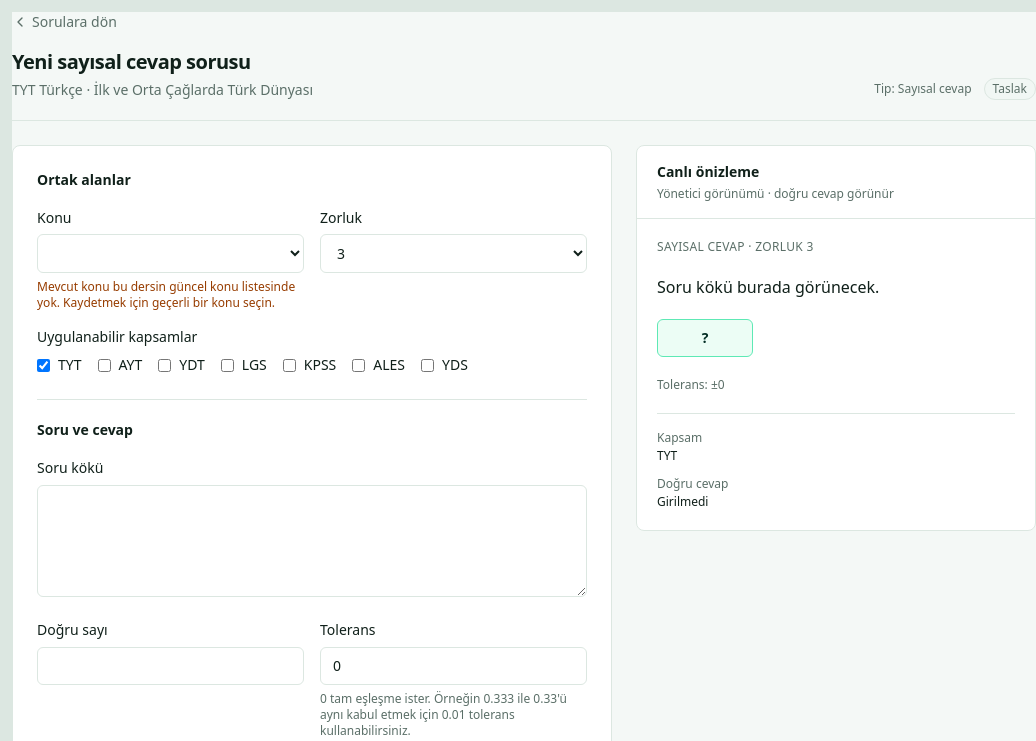
Scenario: numeric input create editor › blocks save on a negative tolerance
Expected: the heading "Yeni sayısal cevap sorusu" is shown, x1=12 y1=48 x2=251 y2=74
Select "İlk Türk Devletleri (12)" in the dropdown labelled "Konu" at (170, 254), box x1=37 y1=234 x2=304 y2=273
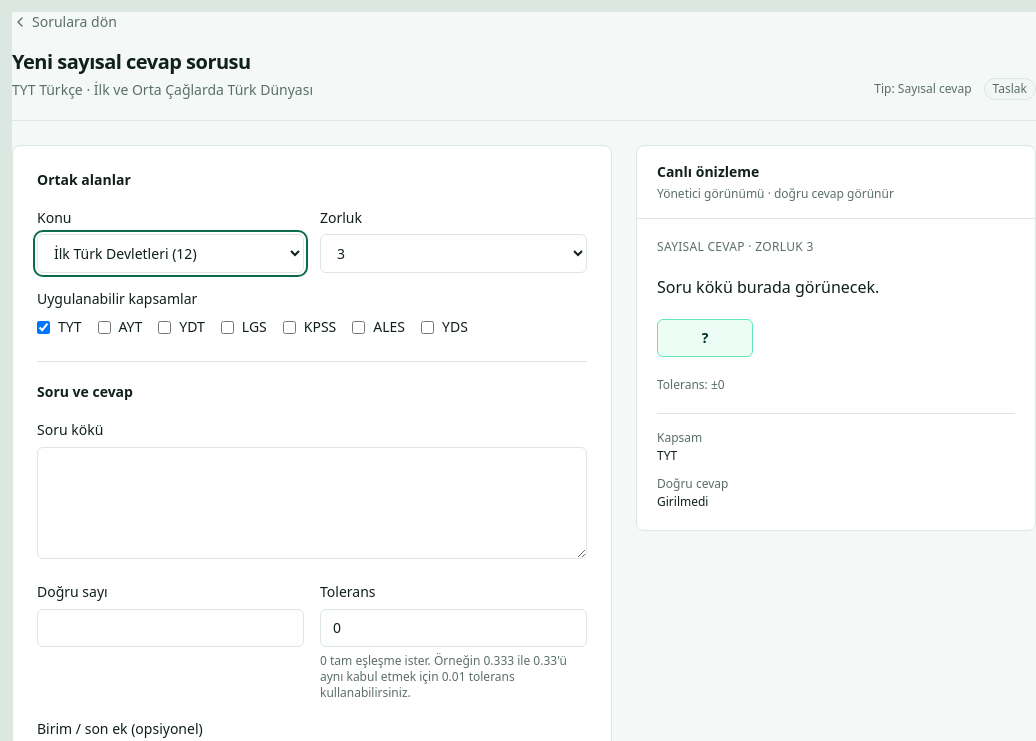
Type "Kaç yılında?" into the text box labelled "Soru kökü".
click(312, 502); type("Kaç yılında?")  # box x1=37 y1=446 x2=587 y2=558
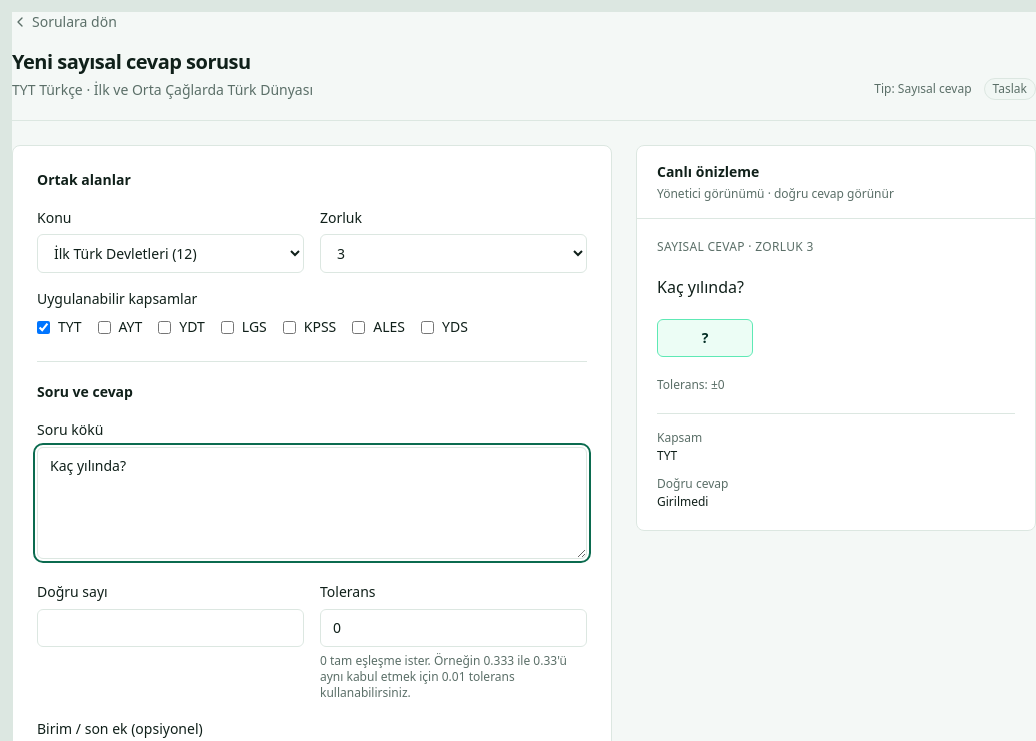
Type "5" into the number field labelled "Doğru sayı".
click(170, 628); type("5")  # box x1=37 y1=608 x2=304 y2=646
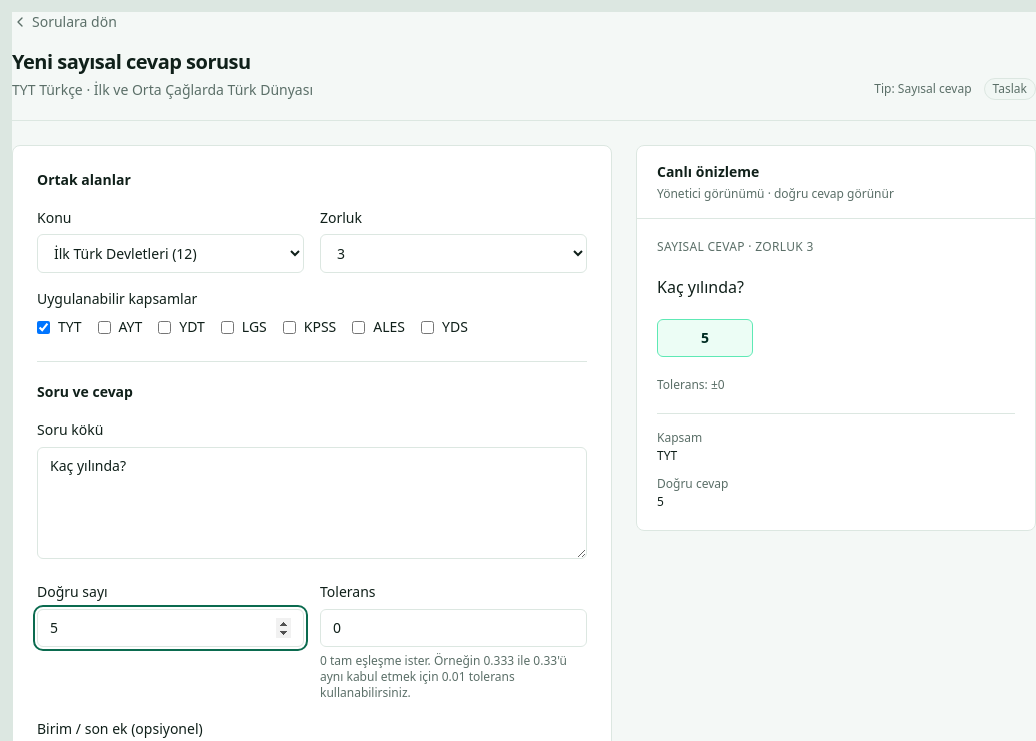
Replace the text in the number field labelled "Tolerans" with "-1" at (454, 628), box x1=320 y1=608 x2=587 y2=646
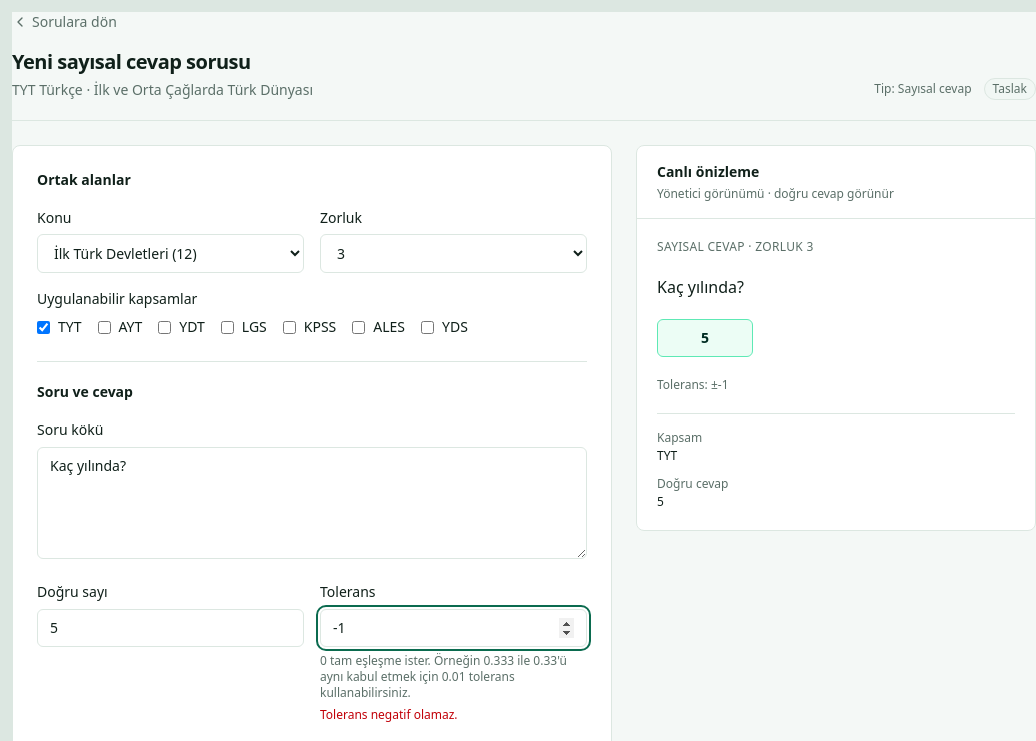
Now the text "Tolerans negatif olamaz." is shown, box x1=320 y1=706 x2=458 y2=722
